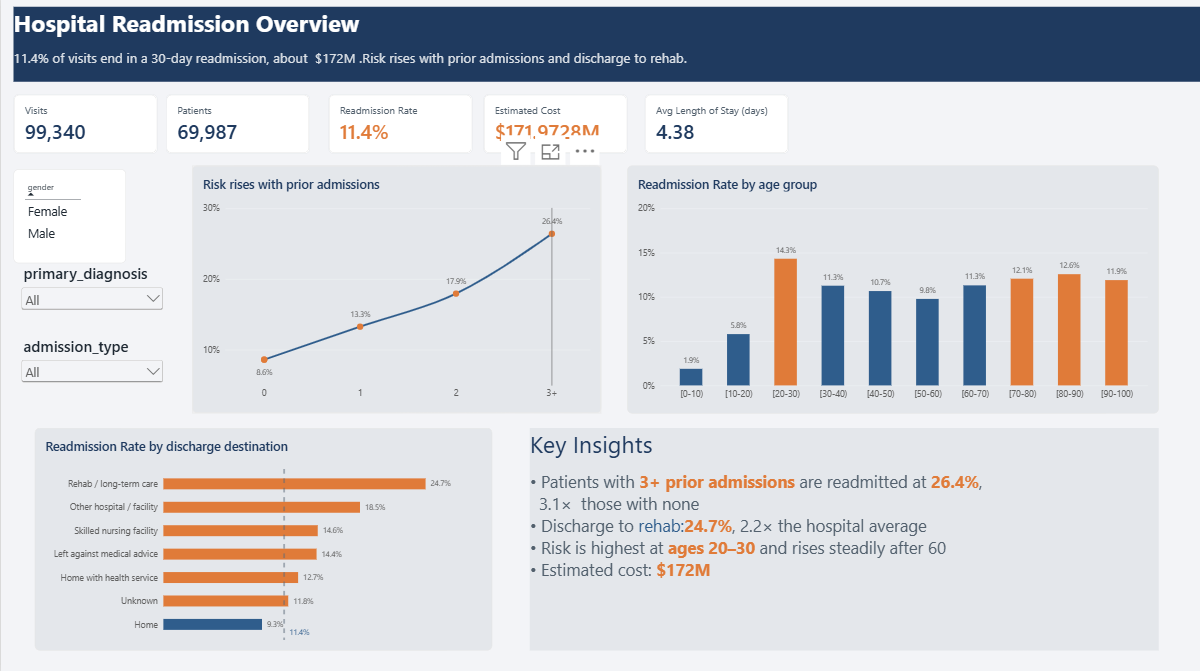

What the dashboard file says about the page in this screenshot:
{"tool":"powerbi","page":{"name":"Overview","canvas":[1920,1080],"ordinal":0},"visuals":[{"type":"textbox","box":[20,14,1900,120],"z":0},{"type":"cardVisual","fields":{"Data":["Cost per Readmission.Visits Display"]},"box":[20,154,230,95],"z":1000},{"type":"cardVisual","fields":{"Data":["Cost per Readmission.Patients Display"]},"box":[264,154,230,95],"z":2000},{"type":"cardVisual","fields":{"Data":["_Measures.Readmission Rate"]},"box":[524,154,230,95],"z":3000},{"type":"cardVisual","fields":{"Data":["_Measures.Estimated Cost"]},"box":[772,154,230,95],"z":4000},{"type":"cardVisual","fields":{"Data":["_Measures.Avg Length of Stay"]},"box":[1030,154,230,95],"z":5000},{"type":"tableEx","fields":{"Values":["Encounters.gender"]},"box":[20,274,180,150],"z":6000},{"type":"slicer","fields":{"Values":["Encounters.admission_type"]},"box":[28,540,236,100],"z":7000},{"type":"slicer","fields":{"Values":["Encounters.primary_diagnosis"]},"box":[28,424,236,82],"z":8000},{"type":"clusteredBarChart","title":"Readmission Rate by discharge destination","fields":{"Category":["Encounters.discharge_group"],"Y":["_Measures.Readmission Rate"]},"box":[54,688,732,356],"z":9000},{"type":"lineChart","title":"Risk rises with prior admissions","fields":{"Category":["Encounters.prior_inpatient_band"],"Y":["_Measures.Readmission Rate"]},"box":[306,268,654,396],"z":10000},{"type":"clusteredColumnChart","title":"Readmission Rate by age group","fields":{"Category":["Encounters.age"],"Y":["_Measures.Readmission Rate"]},"box":[1002,268,850,396.7],"z":11000},{"type":"textbox","box":[846,688,1006,356],"z":12000},{"type":"textbox","box":[786,688,174,356],"z":13000}]}

Visuals, with their boxes in screenshot pixels (x1, y1, x2, y2), scaled from the page's 1920x1080 canvas onto the 1200x671 screenshot:
textbox: pyautogui.locateOnScreen(12, 9, 1199, 83)
cardVisual - Cost per Readmission.Visits Display: pyautogui.locateOnScreen(12, 96, 156, 155)
cardVisual - Cost per Readmission.Patients Display: pyautogui.locateOnScreen(165, 96, 309, 155)
cardVisual - _Measures.Readmission Rate: pyautogui.locateOnScreen(328, 96, 471, 155)
cardVisual - _Measures.Estimated Cost: pyautogui.locateOnScreen(482, 96, 626, 155)
cardVisual - _Measures.Avg Length of Stay: pyautogui.locateOnScreen(644, 96, 788, 155)
tableEx - Encounters.gender: pyautogui.locateOnScreen(12, 170, 125, 263)
slicer - Encounters.admission_type: pyautogui.locateOnScreen(18, 336, 165, 398)
slicer - Encounters.primary_diagnosis: pyautogui.locateOnScreen(18, 263, 165, 314)
"Readmission Rate by discharge destination" clusteredBarChart: pyautogui.locateOnScreen(34, 427, 491, 649)
"Risk rises with prior admissions" lineChart: pyautogui.locateOnScreen(191, 167, 600, 413)
"Readmission Rate by age group" clusteredColumnChart: pyautogui.locateOnScreen(626, 167, 1158, 413)
textbox: pyautogui.locateOnScreen(529, 427, 1158, 649)
textbox: pyautogui.locateOnScreen(491, 427, 600, 649)
